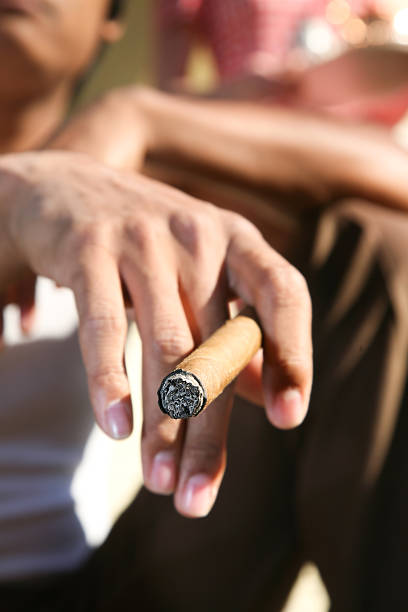cigarette: (155, 303, 265, 421)
